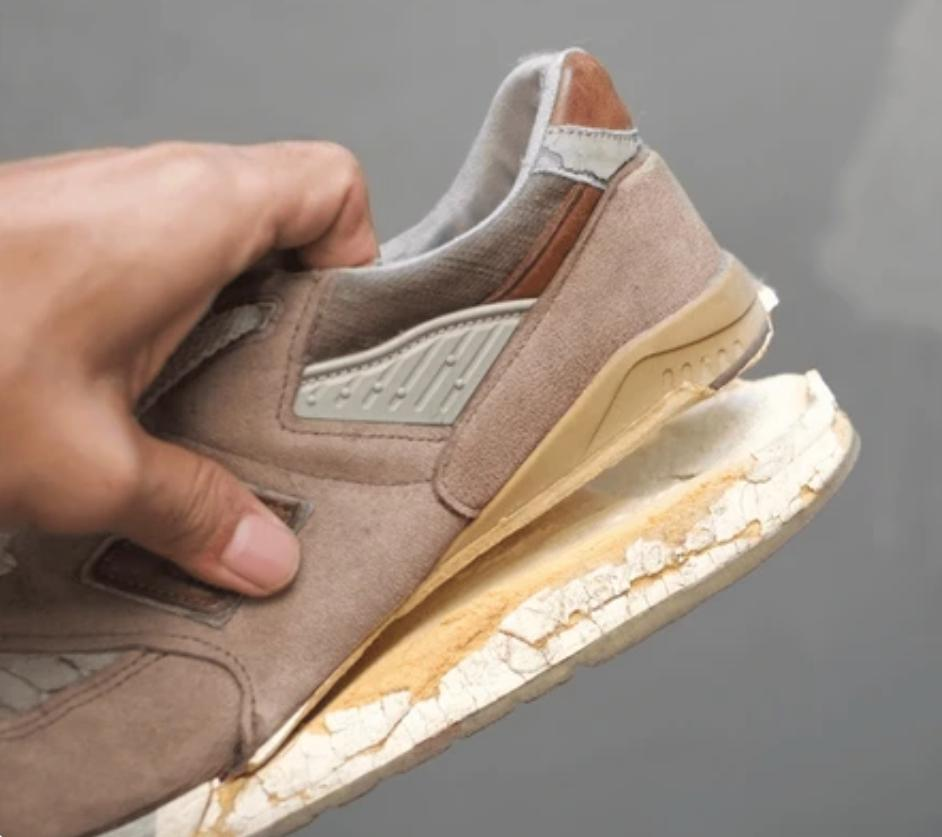bonding: (311, 280, 845, 738)
